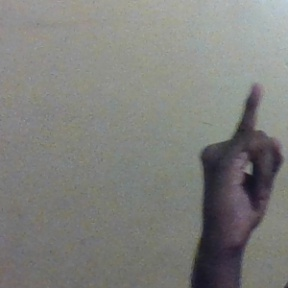I: (197, 83, 281, 237)
